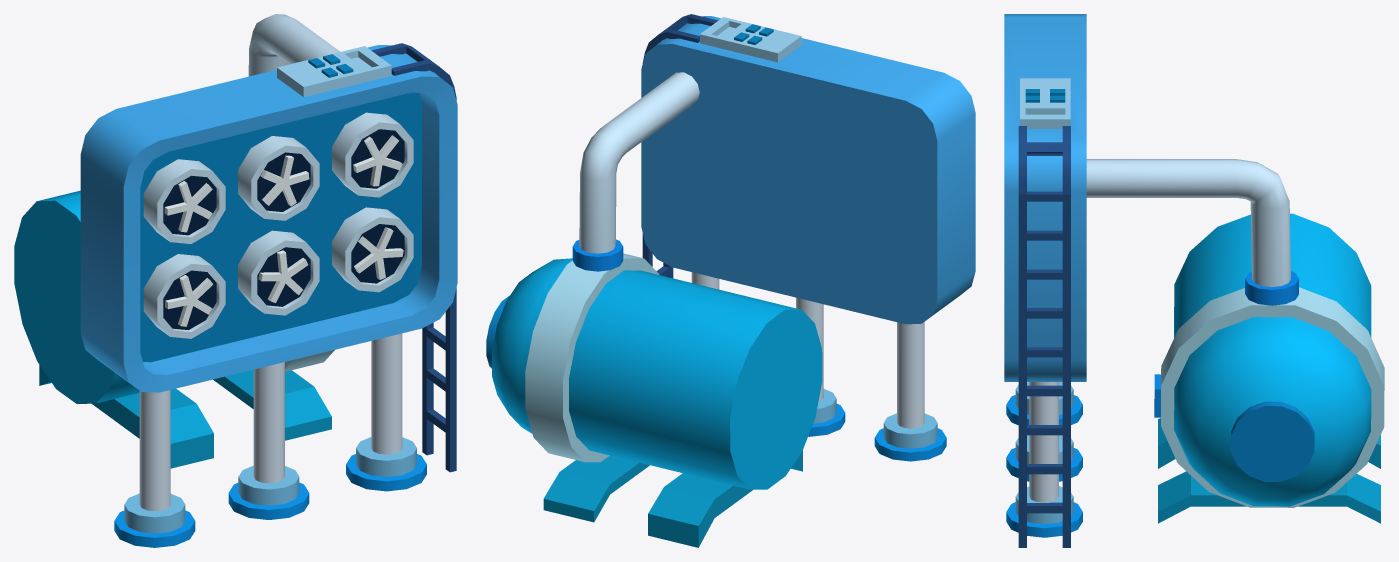
The model's file is 2026-1-9-CarbonCapture-v046.fbx.
The picture shows the model from 3 angles, left to right: view 1: azimuth 30°, elevation 25°; view 2: azimuth 150°, elevation 25°; view 3: azimuth 270°, elevation 25°; orthographic projection. The views are drawn at different scales.
Visible parts, largest first — view 1: Cube.003, Cylinder, Cube.004, Cube.001, Cylinder.006, Cylinder.003, Cylinder.014, Cylinder.001, Cube, Cylinder.007, Cylinder.012, Cylinder.009 (+21 smaller); view 2: Cube.003, Cylinder, Cylinder.002, Cylinder.001, Cube.001, Cube, Cylinder.006, Cylinder.015, Cube.004, Cylinder.005, Cylinder.024, Cylinder.014; view 3: Cylinder, Cube.003, Cube.004, Cylinder.001, Cylinder.002, Cube, Cylinder.003, Cylinder.024, Cylinder.004, Cube.001, Cylinder.017, Cylinder.005 (+1 smaller).
Boxes of the visible parts, x1,y1,x2,y2 form: Cube.003: (80, 45, 457, 392); Cylinder: (14, 190, 139, 403); Cube.004: (371, 43, 456, 472); Cube.001: (39, 365, 213, 468); Cylinder.006: (139, 390, 170, 511); Cylinder.003: (371, 333, 402, 454); Cylinder.014: (253, 362, 284, 483); Cylinder.001: (248, 14, 340, 76); Cube: (213, 369, 331, 440); Cylinder.007: (143, 159, 225, 243); Cylinder.012: (143, 254, 225, 338); Cylinder.009: (332, 112, 413, 197); Cube.003: (641, 16, 975, 324); Cylinder: (486, 258, 822, 489); Cylinder.002: (525, 253, 659, 462); Cylinder.001: (579, 72, 699, 253); Cube.001: (648, 450, 802, 547); Cube: (543, 455, 649, 522); Cylinder.006: (897, 322, 924, 428); Cylinder.015: (883, 413, 937, 448); Cube.004: (642, 14, 718, 278); Cylinder.005: (874, 428, 946, 461); Cylinder.024: (572, 239, 623, 271); Cylinder.014: (796, 297, 823, 402); Cylinder: (1174, 213, 1371, 506); Cube.003: (1004, 14, 1086, 381); Cube.004: (1018, 126, 1070, 547); Cylinder.001: (1086, 159, 1290, 287); Cylinder.002: (1154, 287, 1384, 507); Cube: (1158, 471, 1380, 523); Cylinder.003: (1029, 382, 1058, 502); Cylinder.024: (1245, 271, 1298, 305); Cylinder.004: (1006, 502, 1082, 537); Cube.001: (1158, 418, 1380, 468); Cylinder.017: (1015, 486, 1073, 524); Cylinder.005: (1006, 395, 1082, 425).
Bounding box in the file's own units: 295 × 307 × 264.
